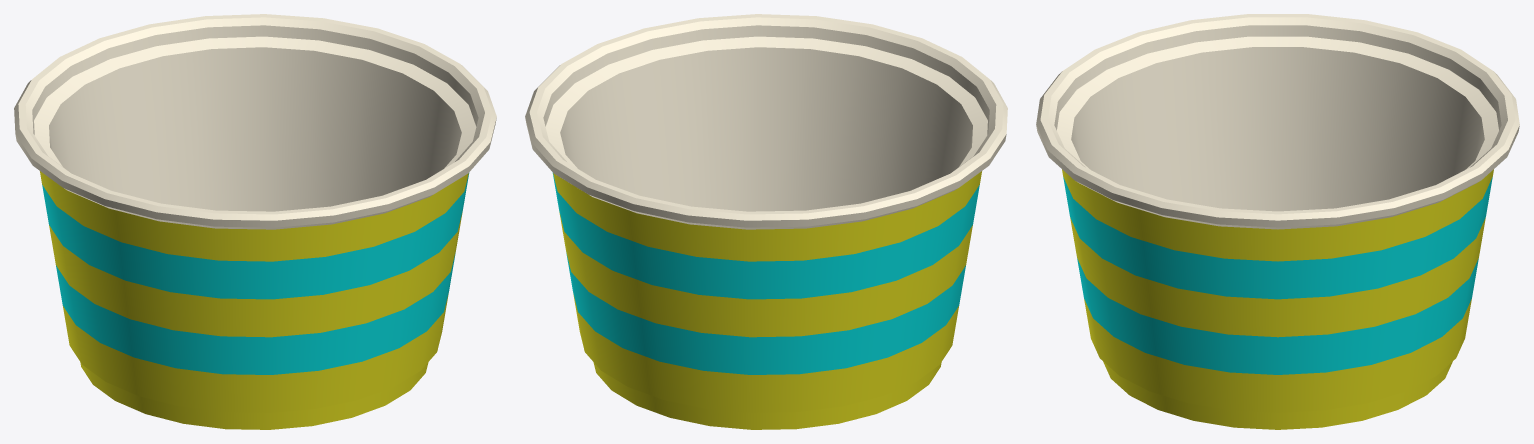
File: Cup S Yellow Blue.fbx
3 views of the same model, side by side, from view 1: azimuth 30°, elevation 25°; view 2: azimuth 150°, elevation 25°; view 3: azimuth 270°, elevation 25° (orthographic).
Visible parts, largest first — view 1: Cup S Yellow Blue; view 2: Cup S Yellow Blue; view 3: Cup S Yellow Blue.
Boxes of the visible parts, <box> form: Cup S Yellow Blue: <box>14,14,496,429</box>; Cup S Yellow Blue: <box>525,14,1007,429</box>; Cup S Yellow Blue: <box>1036,14,1519,429</box>.
Size of the model in its own units: 0.7531 by 0.4164 by 0.7546.
